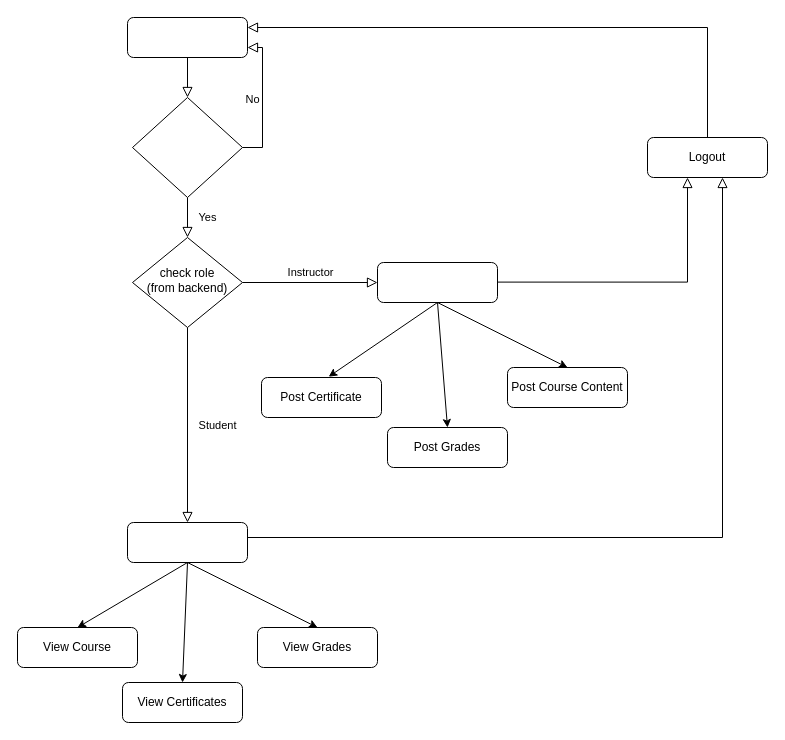
This 785x740 diagram has some shape labels left out. The centre of each missing label's shape, as x and y in pixels:
Instructor Dasboard: the point at 437,282
Login: the point at 187,37
Student Dashboard: the point at 187,542
verify user (authentication): the point at 187,147
